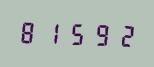eight: (18, 17, 40, 45)
five: (64, 19, 86, 47)
nine: (87, 20, 109, 48)
one: (41, 18, 63, 46)
two: (110, 21, 132, 48)
